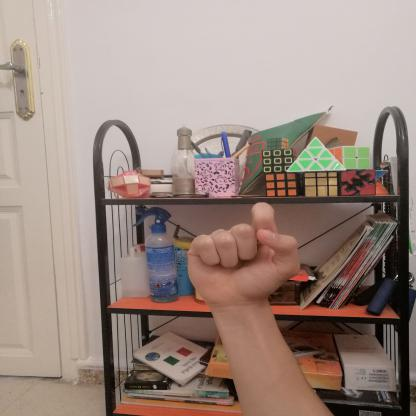FAA: (170, 192, 314, 316)
